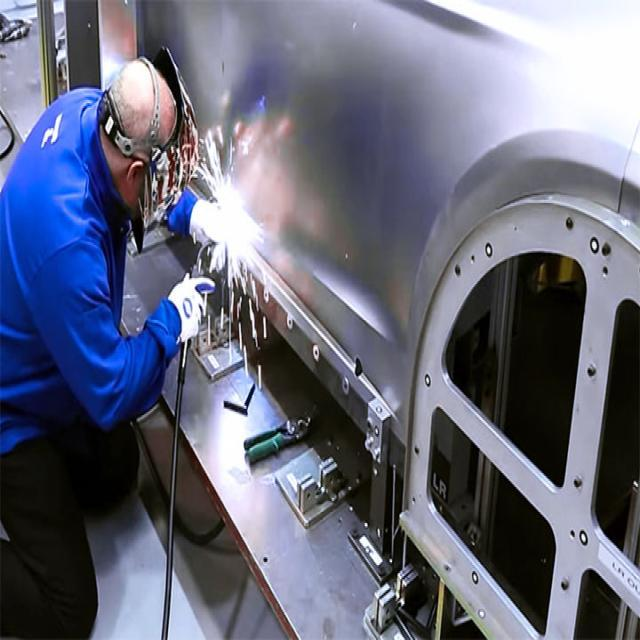with_helmet: (141, 48, 199, 228)
